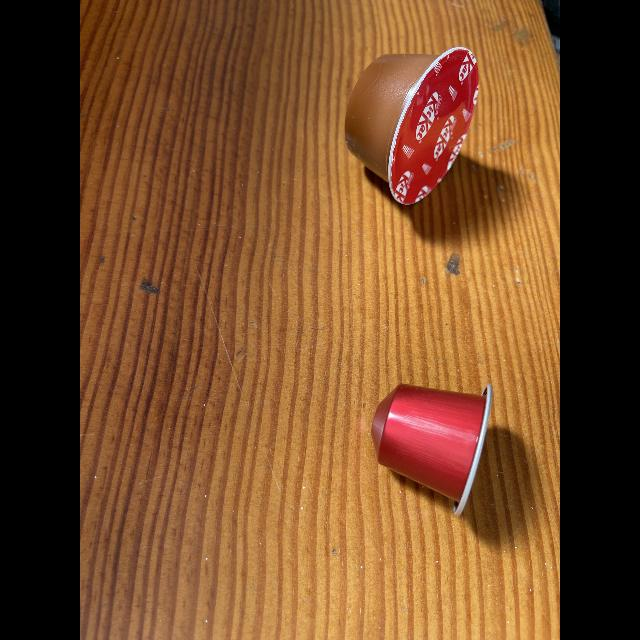intact_capsule: (335, 35, 489, 218), (367, 372, 501, 522)
